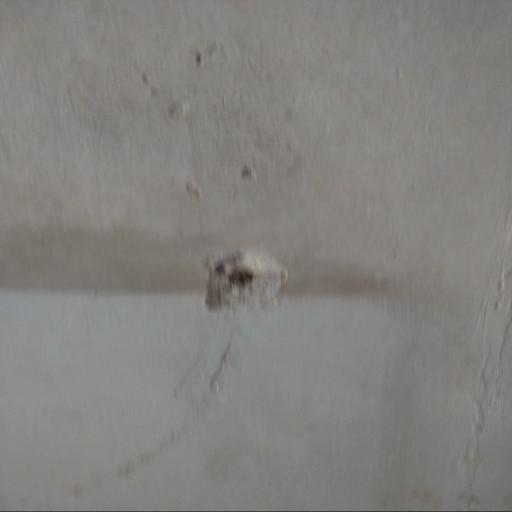stain: (160, 219, 313, 424), (69, 385, 254, 512)
